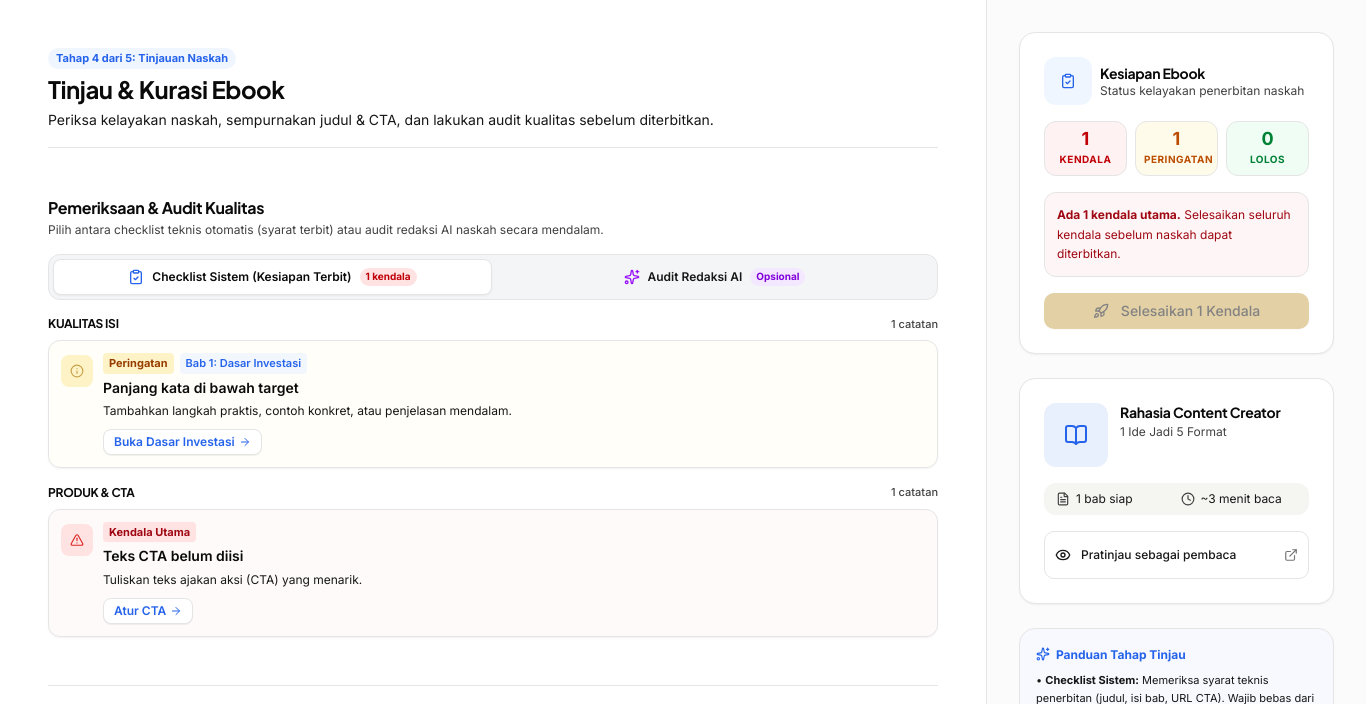
Test: ReviewPanel & AiQualityReview Enhanced › renders both review tabs and switches between system checklist and AI audit
Expected: the button "Checklist Sistem (Kesiapan Terbit) 1 kendala" is shown, [53,259,492,295]
Expected: the text "Panjang kata di bawah target" is shown, [103,379,299,396]
// Click AI Audit tab
Click the button "Audit Redaksi AI Opsional": (714, 277) [496,260,933,294]
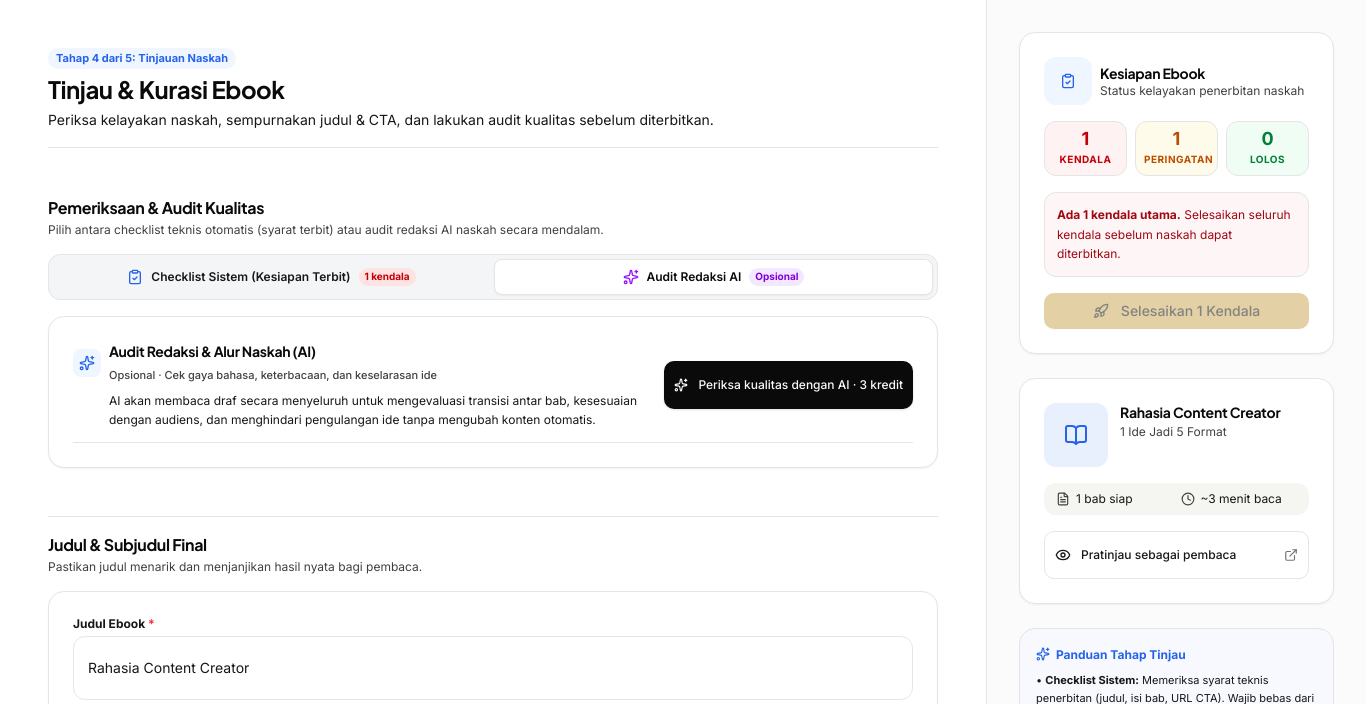
Expected: the heading "Audit Redaksi & Alur Naskah (AI)" is shown, [109,342,316,360]
Expected: the button "Periksa kualitas dengan AI · 3 kredit" is shown, [664,361,913,409]
